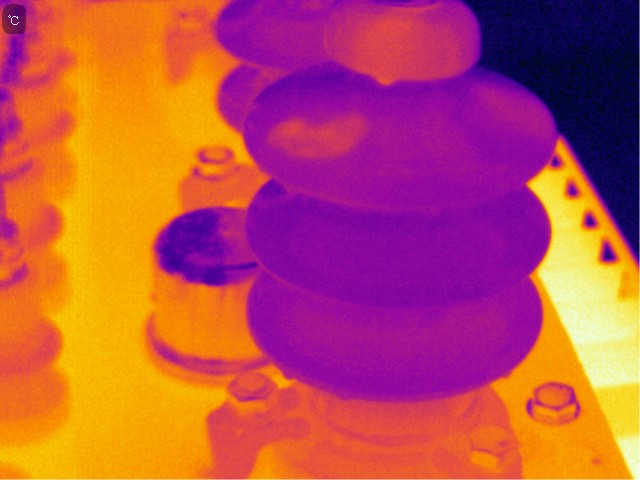Oil: (342, 12, 449, 90), (267, 98, 371, 165), (472, 82, 551, 139), (271, 184, 311, 208), (334, 387, 355, 405), (281, 363, 297, 383), (499, 369, 512, 381)
